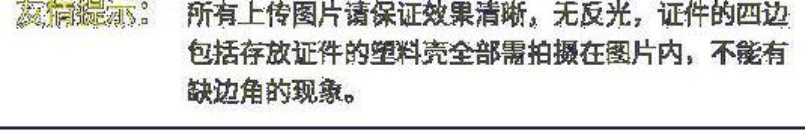EditText: (1, 1, 804, 139)
